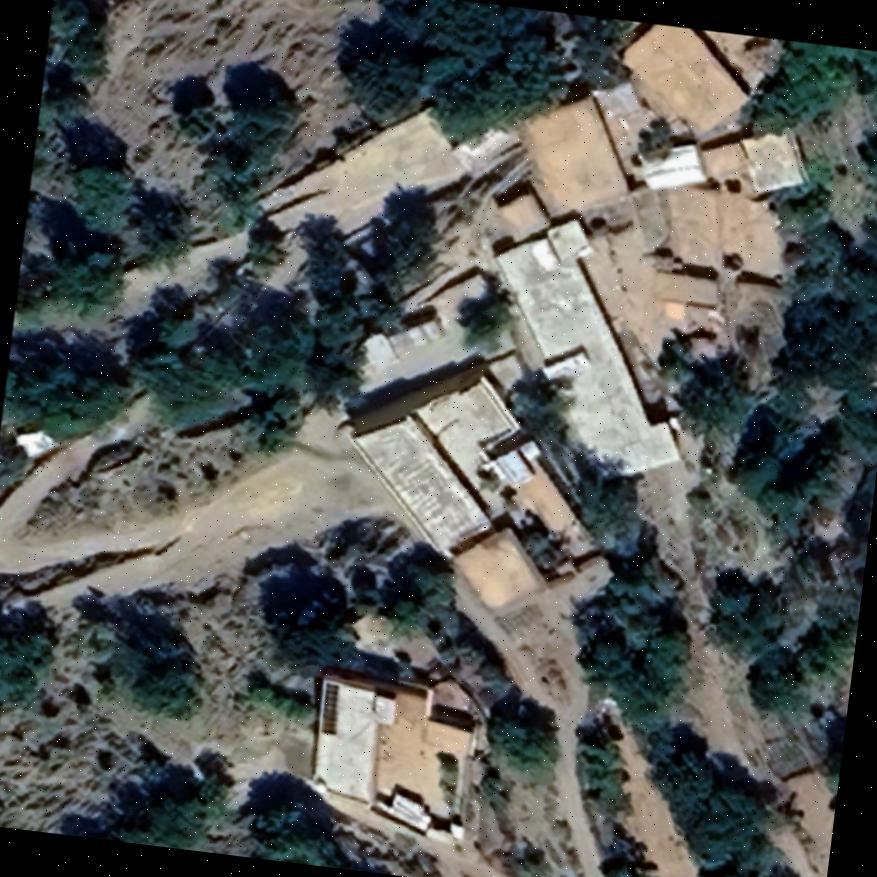Solarpanel: (314, 677, 343, 738)
